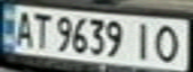3: (87, 16, 109, 57)
6: (69, 15, 90, 55)
9: (103, 17, 130, 60), (51, 12, 75, 53)
A: (9, 8, 36, 47)
I: (127, 19, 160, 61)
O: (148, 21, 187, 64)
T: (27, 9, 54, 50)
